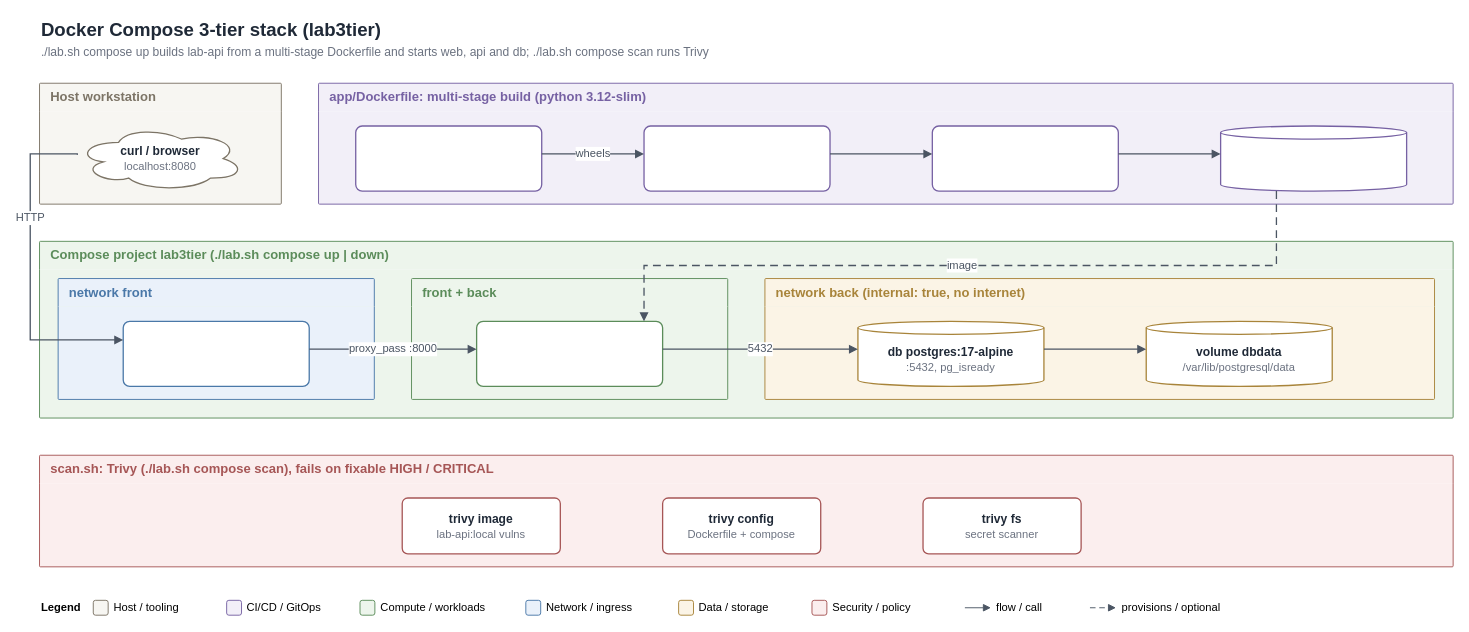
This 1469x632 diagram has some shape labels left out. Here are the shapes that lost their labels. From the top down, the centre of each, then its label:
At point (448, 158): "build pip wheel, cache mount".
At point (736, 158): "test pytest -q".
At point (1025, 158): "runtime uid 10001, gunicorn :8000".
At point (1313, 158): "lab-api:local HEALTHCHECK /healthz".
At point (215, 353): "web nginx-unprivileged, publishes 8080:8080".
At point (569, 353): "api (Flask) :8000, cap_drop ALL, 0.5 CPU / 256M".
